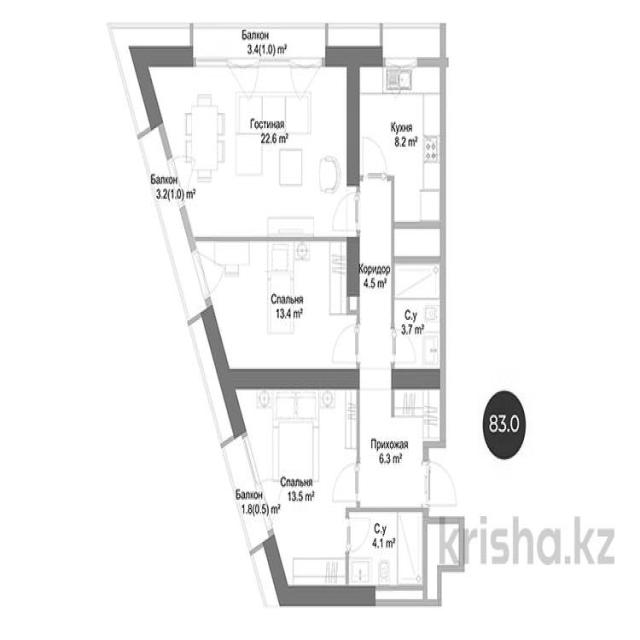balcony: (140, 123, 213, 325), (219, 428, 273, 555), (189, 25, 329, 65)
bathroom: (393, 260, 444, 384), (351, 512, 427, 590)
hallway: (359, 388, 446, 502), (358, 226, 395, 388)
kitchen: (353, 59, 444, 225)
living_room: (180, 63, 351, 235), (210, 240, 357, 377), (275, 382, 354, 588)
